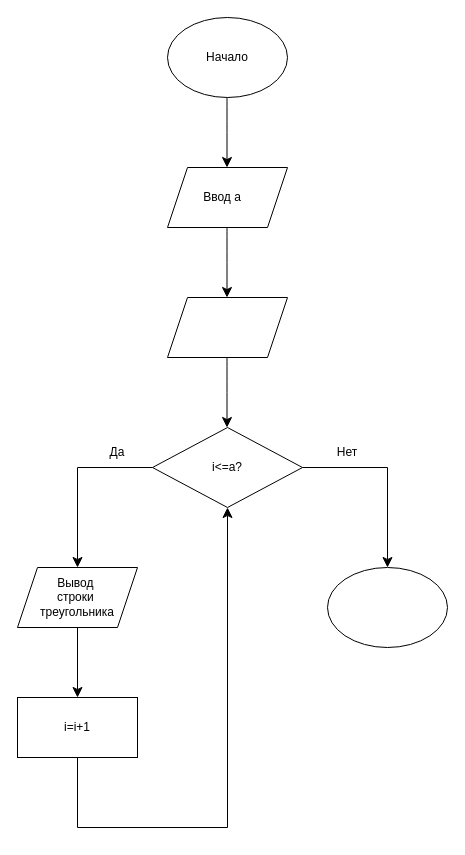
Some shapes in this 465 by 855 pixel diagram are drawn without their labels. The shapes that lost their labels are listed below. From the top down, each one's box as (x1, y1, x2, y2) in pixels, then its label:
(166, 296, 288, 358): Ввод s
(326, 566, 448, 648): Конец
